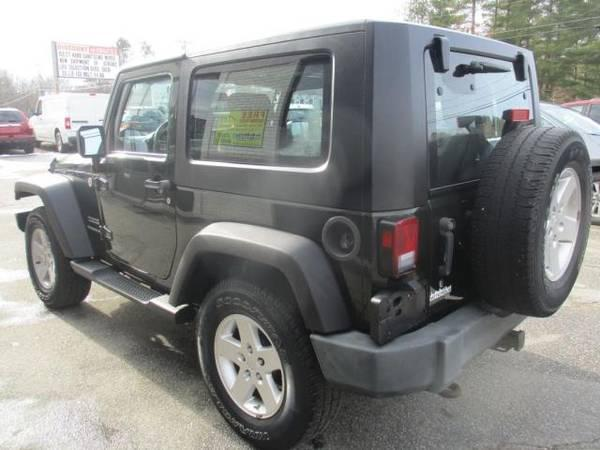Front_Fender: (13, 156, 103, 262)
Front_Left_Door: (98, 155, 182, 290)
Front_Left_Window: (104, 78, 182, 160)
Left_Taillight: (375, 208, 419, 278)
Rear_Bumper: (306, 301, 523, 400)
Rear_Fender: (168, 55, 418, 335)
Rear_Windshield: (425, 49, 538, 203)
Right_Taillight: (418, 192, 477, 325)
Roof: (93, 20, 533, 210)
Wheel: (185, 278, 327, 447), (477, 130, 600, 319), (23, 215, 90, 313)
